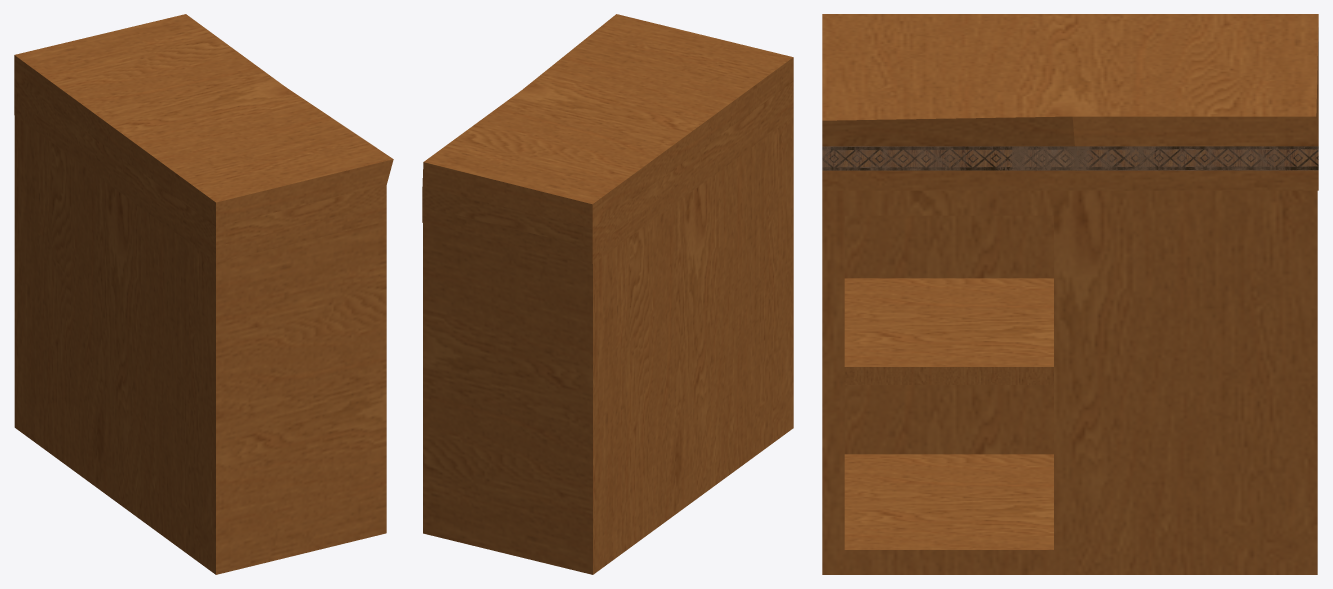
File: TopCabinet_T.fbx
3 views of the same model, side by side, from view 1: azimuth 30°, elevation 25°; view 2: azimuth 150°, elevation 25°; view 3: azimuth 270°, elevation 25° (orthographic). The views are drawn at different scales.
Visible parts, largest first — view 1: pCube18, pCube15; view 2: pCube18, pCube15; view 3: pCube18, pCube15.
Boxes of the visible parts, bbox=[...] form: pCube18: bbox=[14, 116, 386, 574]; pCube15: bbox=[14, 14, 393, 262]; pCube18: bbox=[423, 117, 793, 574]; pCube15: bbox=[422, 14, 793, 264]; pCube18: bbox=[822, 190, 1317, 574]; pCube15: bbox=[822, 14, 1318, 190].
Size of the model in its own units: 0.5697 by 1.14 by 1.12.
